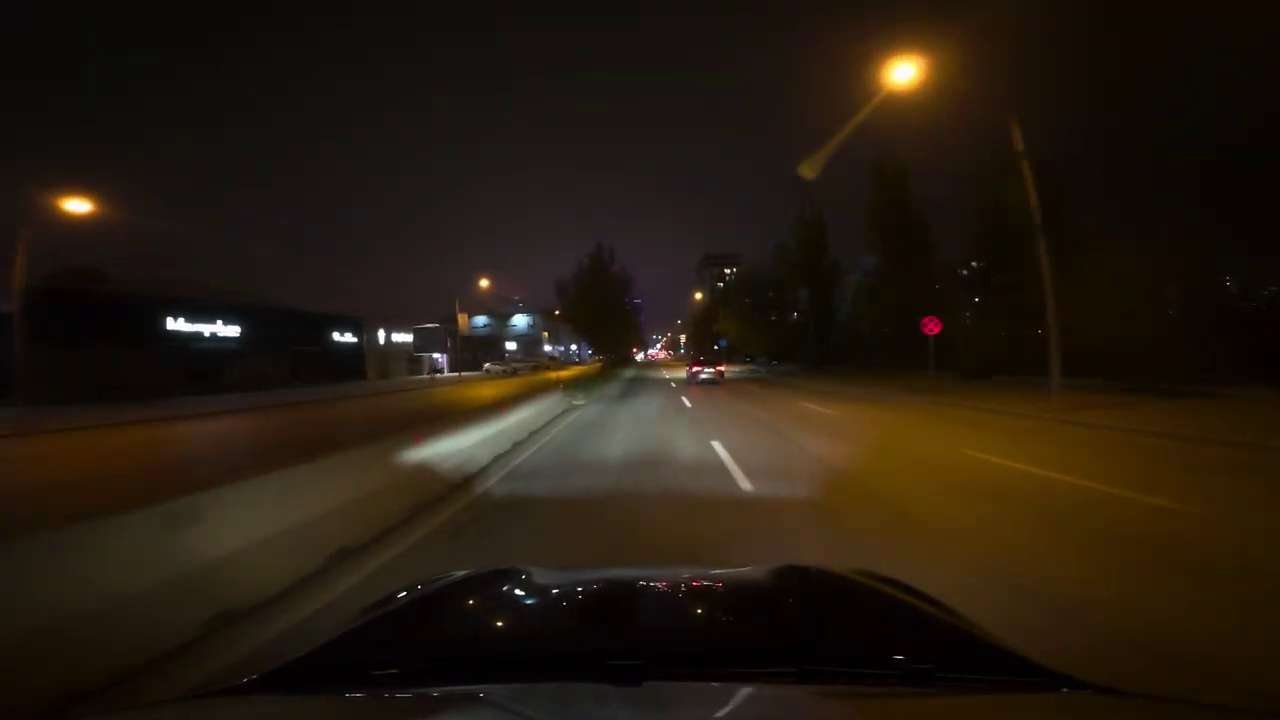acesa: (879, 53, 929, 96), (54, 186, 99, 226), (475, 274, 495, 295)
